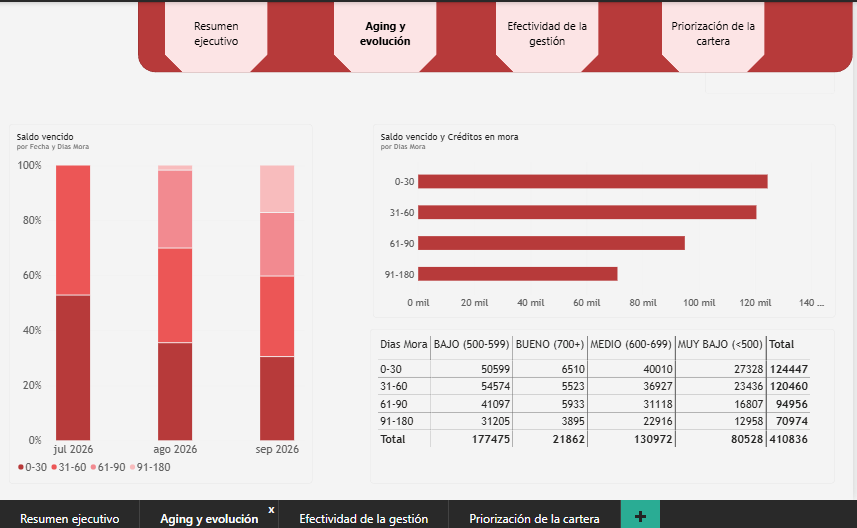

The dashboard page shown, as its layout file describes it:
{"tool":"powerbi","page":{"name":"Aging y evolución","canvas":[1920,1080],"ordinal":1},"visuals":[{"type":"hundredPercentStackedColumnChart","fields":{"Category":["dim_fecha.anio_mes"],"Series":["fct_mora_diaria.bucket_mora"],"Y":["_Medidas.Saldo vencido"]},"box":[90,265,657.5,780],"z":0},{"type":"clusteredBarChart","fields":{"Category":["fct_mora_diaria.bucket_mora"],"Y":["_Medidas.Saldo vencido"]},"box":[880,265,1002.5,420],"z":1000},{"type":"cardVisual","fields":{"Data":["_Medidas.Saldo vencido crítico (>60 días)"]},"box":[1600,50,282.5,150],"z":2000},{"type":"pivotTable","fields":{"Columns":["dim_cliente.rango_score"],"Rows":["fct_mora_diaria.bucket_mora"],"Values":["_Medidas.Saldo vencido"]},"box":[875,710,1007.5,335],"z":3000},{"type":"shape","box":[370,0,1550,152.5],"z":4000},{"type":"shape","box":[430,0,222.5,152.5],"z":5000},{"type":"shape","box":[795,0,222.5,152.5],"z":6000},{"type":"shape","box":[1147.5,0,222.5,152.5],"z":7000},{"type":"shape","box":[1507.5,0,222.5,152.5],"z":8000}]}

Visuals, with their boxes on the page's 1920x1080 design canvas (x1, y1, x2, y2). These are canvas units, not pixel positions in the 857x528 screenshot, which may show the page scaled, cropped or inside an application window:
hundredPercentStackedColumnChart - dim_fecha.anio_mes x fct_mora_diaria.bucket_mora: left=90, top=265, right=748, bottom=1045
clusteredBarChart - fct_mora_diaria.bucket_mora x _Medidas.Saldo vencido: left=880, top=265, right=1882, bottom=685
cardVisual - _Medidas.Saldo vencido crítico (>60 días): left=1600, top=50, right=1882, bottom=200
pivotTable - dim_cliente.rango_score x fct_mora_diaria.bucket_mora: left=875, top=710, right=1882, bottom=1045
shape: left=370, top=0, right=1920, bottom=152
shape: left=430, top=0, right=652, bottom=152
shape: left=795, top=0, right=1018, bottom=152
shape: left=1148, top=0, right=1370, bottom=152
shape: left=1508, top=0, right=1730, bottom=152
